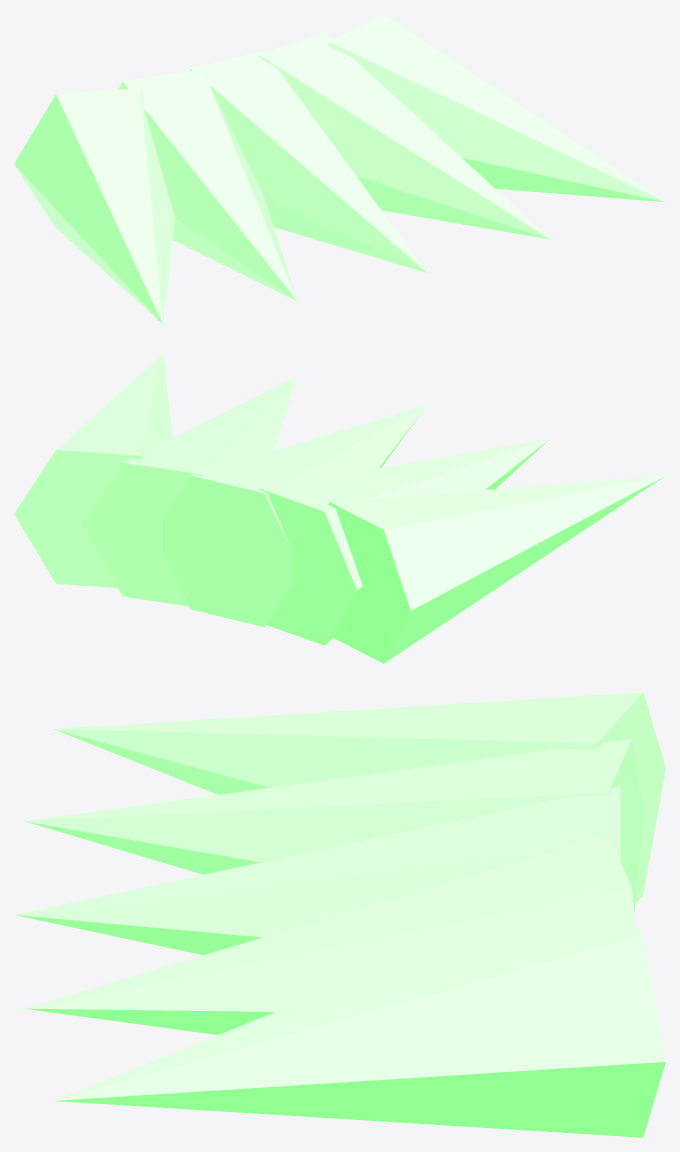
File: radiation_02.glb
The picture shows the model from 3 angles, top to bottom: view 1: azimuth 30°, elevation 25°; view 2: azimuth 150°, elevation 25°; view 3: azimuth 270°, elevation 25°; orthographic projection. The views are drawn at different scales.
Visible parts, largest first — view 1: crystal0, crystal4, crystal3, crystal2, crystal1; view 2: crystal0, crystal2, crystal1, crystal3, crystal4; view 3: crystal4, crystal1, crystal0, crystal3, crystal2.
Boxes of the visible parts, x1,y1,x2,y2 form: crystal0: (14,88,174,324); crystal4: (328,14,665,202); crystal3: (259,32,550,239); crystal2: (189,50,426,272); crystal1: (118,69,297,300); crystal0: (328,475,665,663); crystal2: (163,405,426,627); crystal1: (259,438,550,645); crystal3: (82,377,297,606); crystal4: (14,353,172,588); crystal4: (53,883,665,1137); crystal1: (24,738,643,913); crystal0: (53,692,665,903); crystal3: (24,834,635,1034); crystal2: (15,786,620,955).
Size of the model in its own units: 2.18 by 0.5543 by 1.61.
